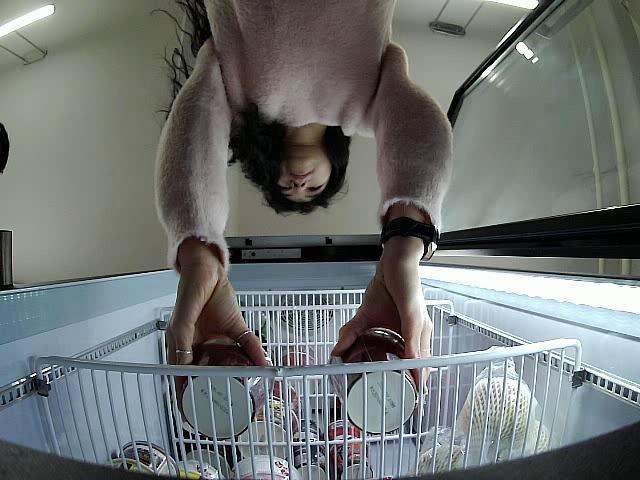00_hand: (328, 268, 431, 419), (166, 270, 273, 367)
06_nuguri_S: (329, 327, 416, 433), (180, 342, 274, 439)
